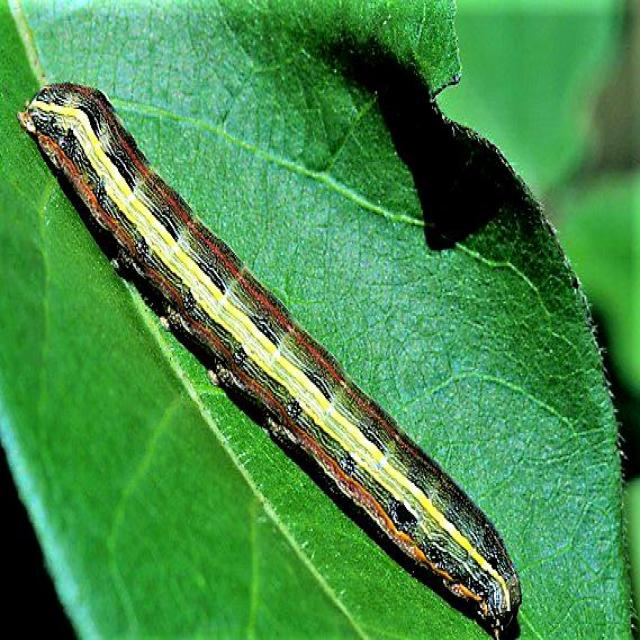Armyworm: (12, 34, 527, 640)
